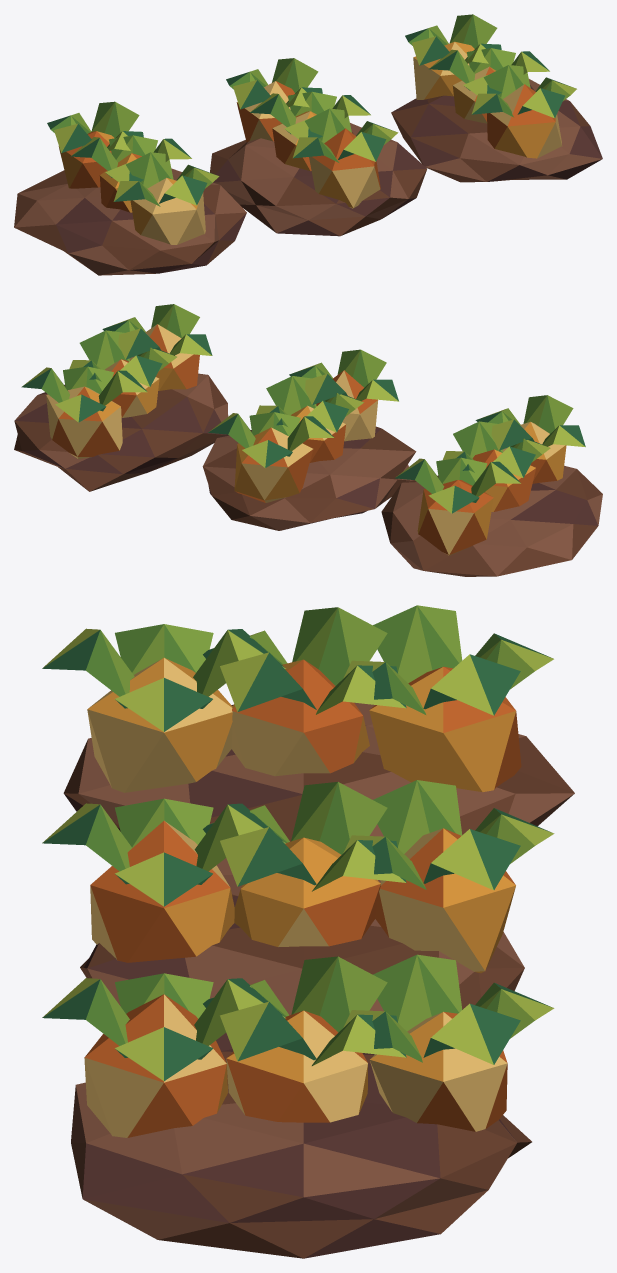
The model's file is grove_crops.glb.
3 renders of one model, top to bottom at view 1: azimuth 30°, elevation 25°; view 2: azimuth 150°, elevation 25°; view 3: azimuth 270°, elevation 25°, orthographic. The views are drawn at different scales.
Parts seen in each view (by area): view 1: grove_crops; view 2: grove_crops; view 3: grove_crops.
Boxes of the visible parts, <box> form: grove_crops: <box>14,14,602,275</box>; grove_crops: <box>14,304,602,576</box>; grove_crops: <box>42,605,574,1258</box>.
Bounding box in the file's own units: 4.29 × 0.8453 × 1.83.
